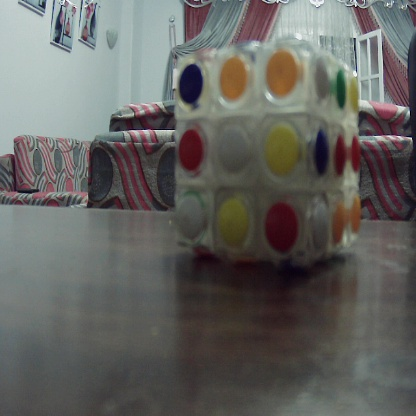Rubix Cube: (176, 36, 360, 266)
